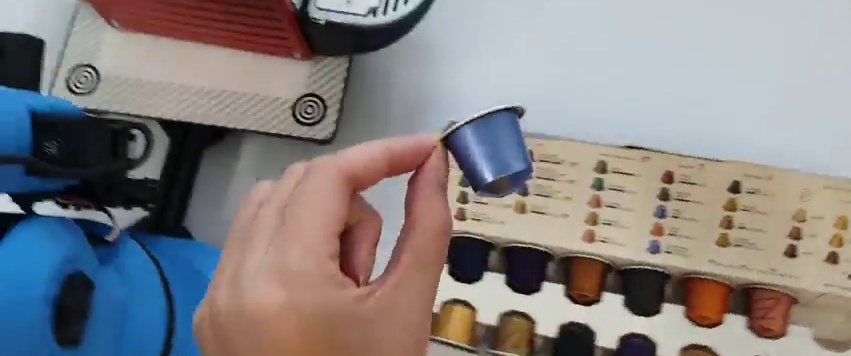capsule_7: (434, 103, 536, 202)
